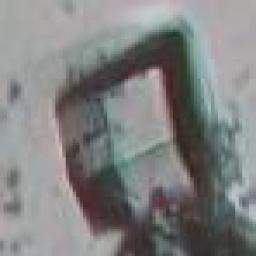crystals: (60, 31, 215, 231)
